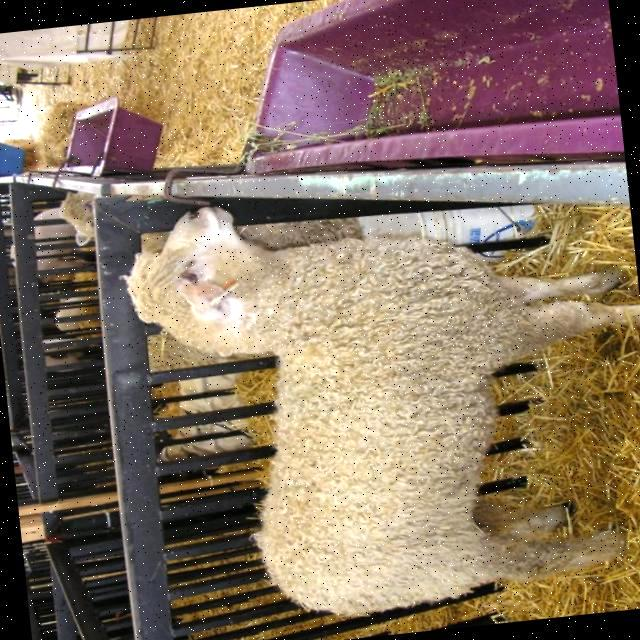sheep: (127, 208, 623, 620), (61, 191, 308, 368), (32, 206, 94, 269)
